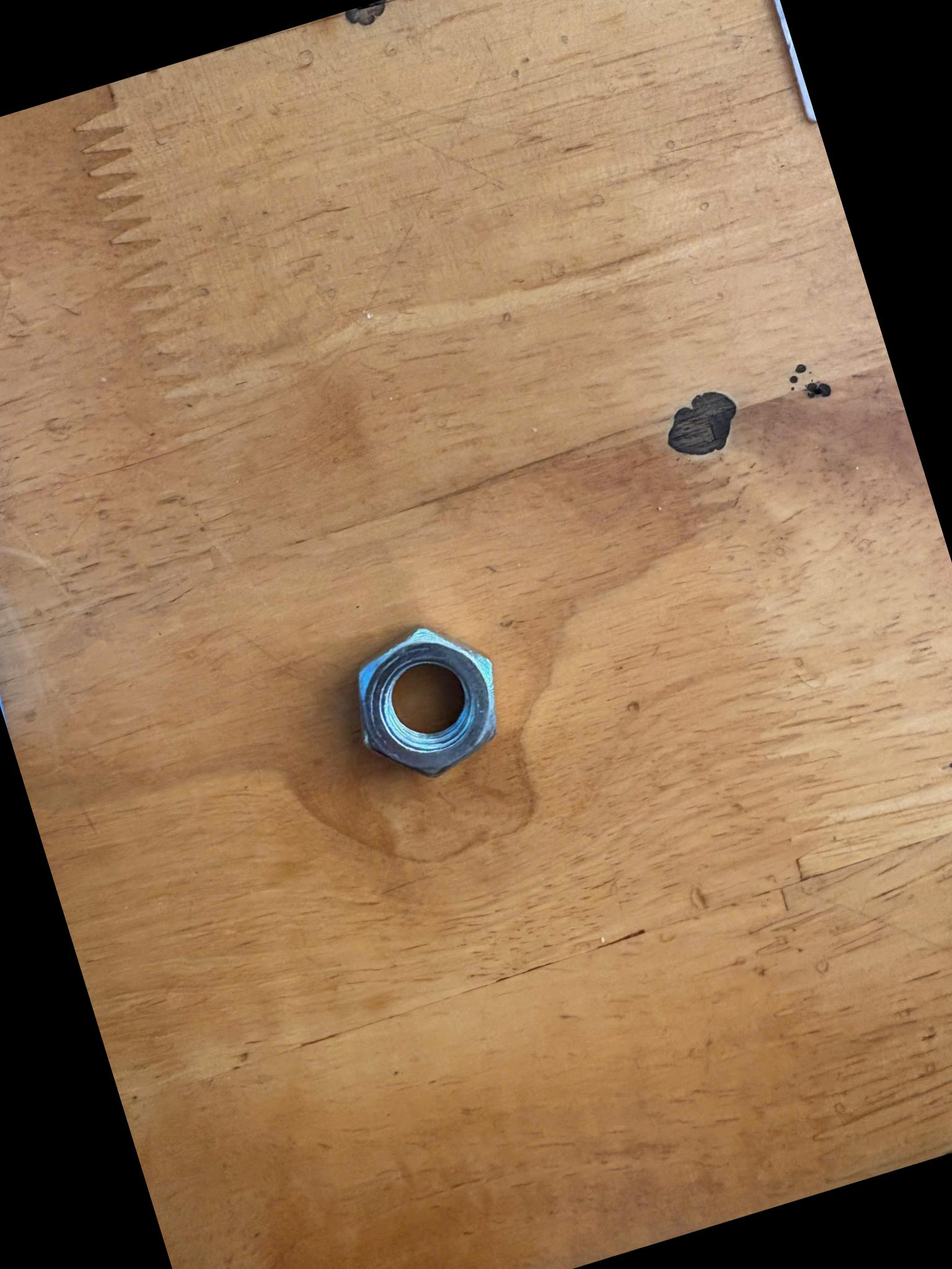nut: (291, 588, 539, 818)
